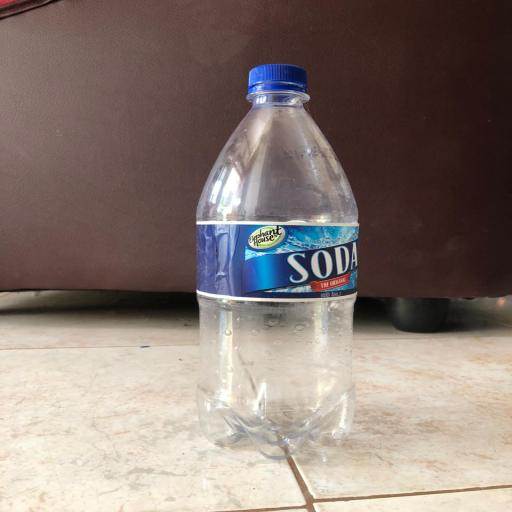waste: (168, 56, 402, 470)
